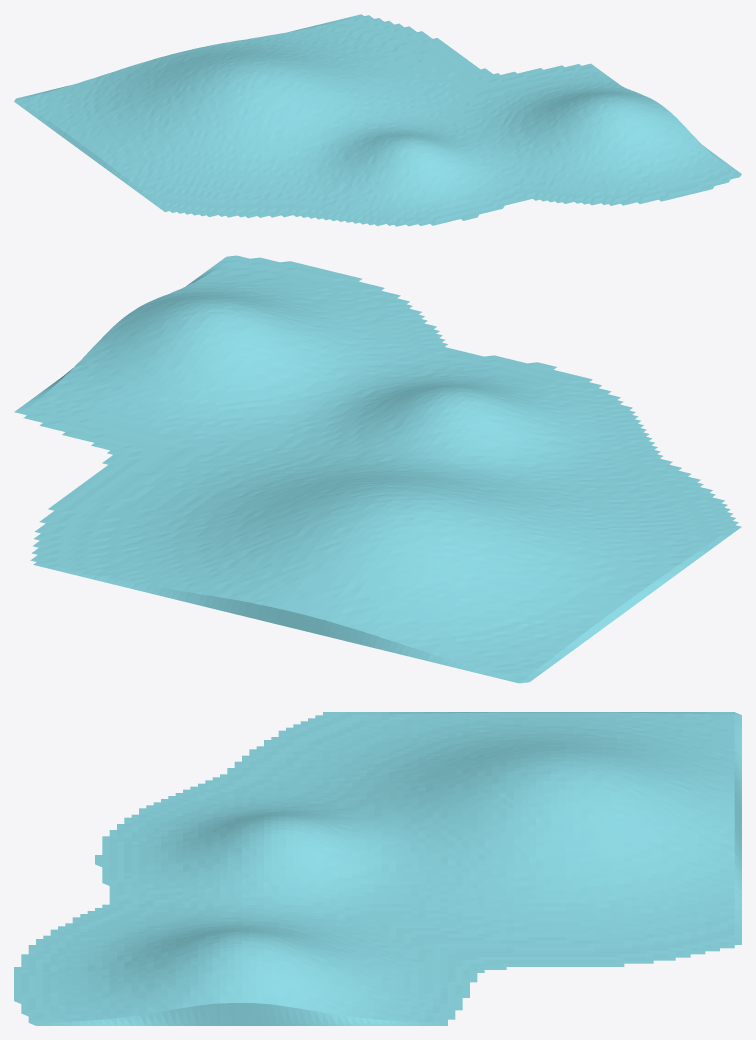
Rendered from mountains_terrain_old.dae.
3 renders of one model, top to bottom at view 1: azimuth 30°, elevation 25°; view 2: azimuth 150°, elevation 25°; view 3: azimuth 270°, elevation 25°, orthographic. The views are drawn at different scales.
Visible parts, largest first — view 1: ImageToStl.com_height_map_terrain; view 2: ImageToStl.com_height_map_terrain; view 3: ImageToStl.com_height_map_terrain.
Part boxes in pixels (box(x1,y1,x2,y2)): ImageToStl.com_height_map_terrain: box(14, 14, 741, 226); ImageToStl.com_height_map_terrain: box(14, 255, 741, 683); ImageToStl.com_height_map_terrain: box(14, 712, 741, 1025).
Size of the model in its own units: 20.2 by 19.8 by 1.5.
